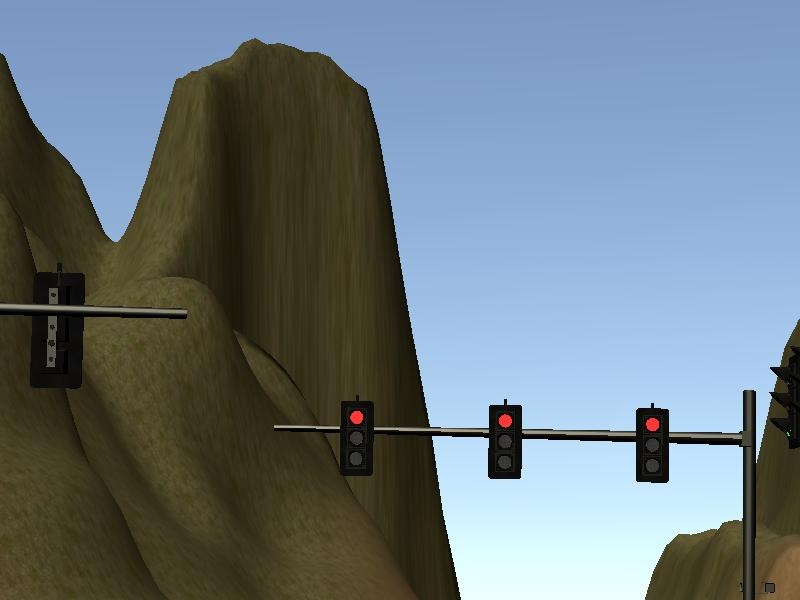red: (627, 402, 675, 488), (335, 392, 378, 479), (482, 401, 525, 484)
